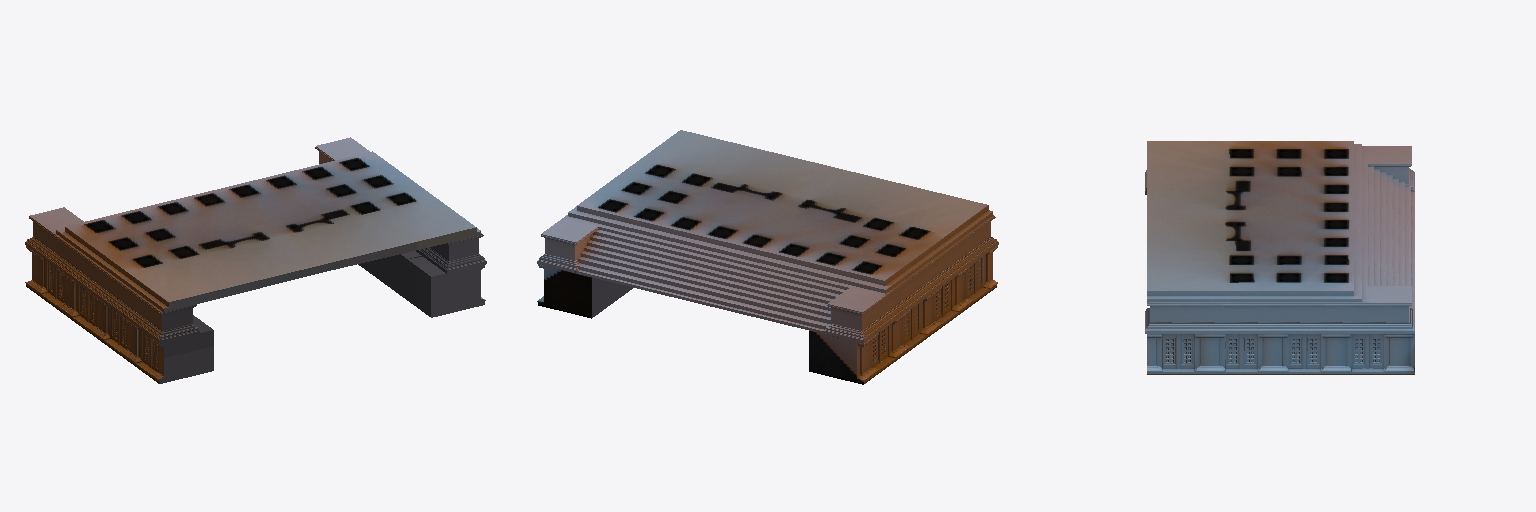
3 views of the same model, side by side, from view 1: azimuth 30°, elevation 25°; view 2: azimuth 150°, elevation 25°; view 3: azimuth 270°, elevation 25° (orthographic).
Parts seen in each view (by area): view 1: Main_Body; view 2: Main_Body; view 3: Main_Body.
Boxes of the visible parts, <box> form: Main_Body: <box>25,137,486,383</box>; Main_Body: <box>537,130,998,384</box>; Main_Body: <box>1145,141,1414,374</box>.
Size of the model in its own units: 24.91 by 5.81 by 17.83.
1 materials, 1 textured.